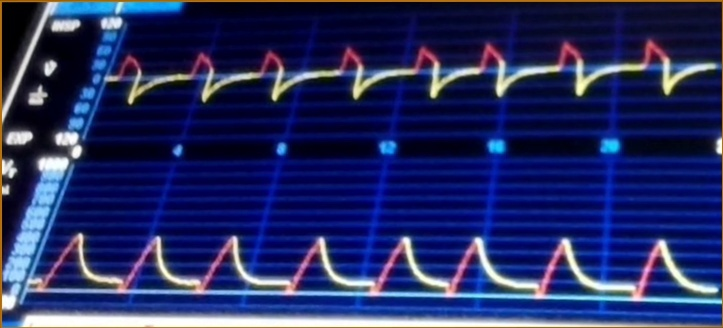Flow: (116, 30, 716, 128)
Leakage Volume: (28, 226, 723, 310)
